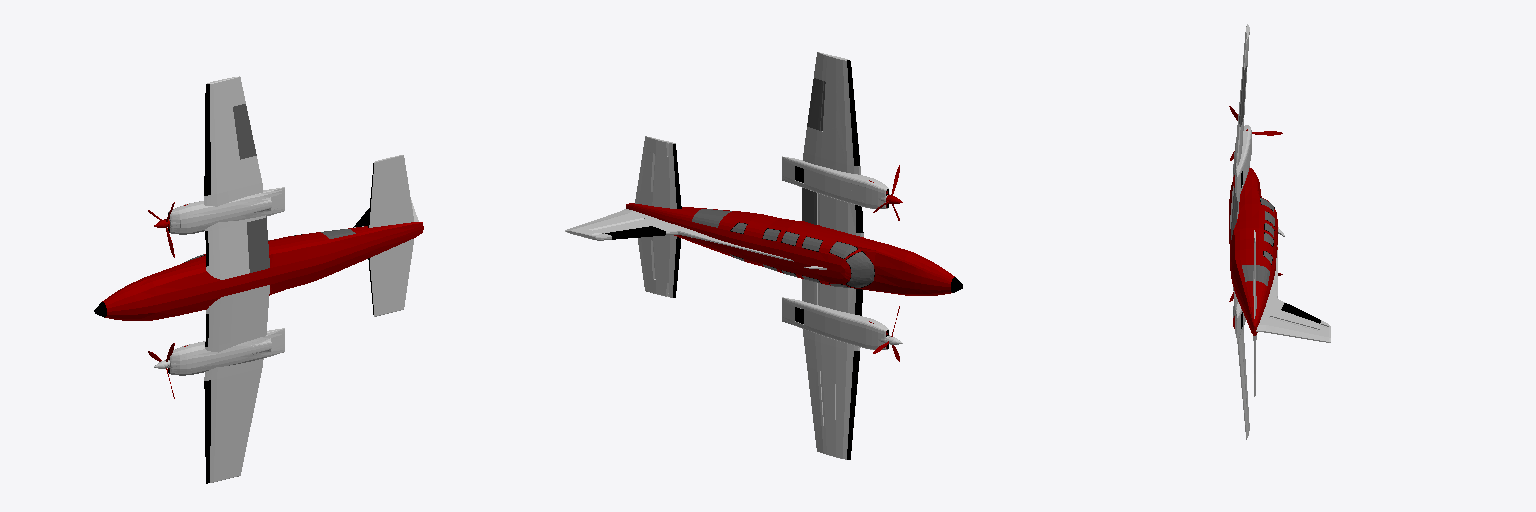
File: cessna.obj
3 renders of one model, left to right at view 1: azimuth 30°, elevation 25°; view 2: azimuth 150°, elevation 25°; view 3: azimuth 270°, elevation 25°, orthographic.
Bounding box in the file's own units: 41.19 × 44.3 × 10.24.